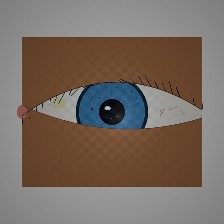pinguecula_lesion: (44, 91, 74, 115)
